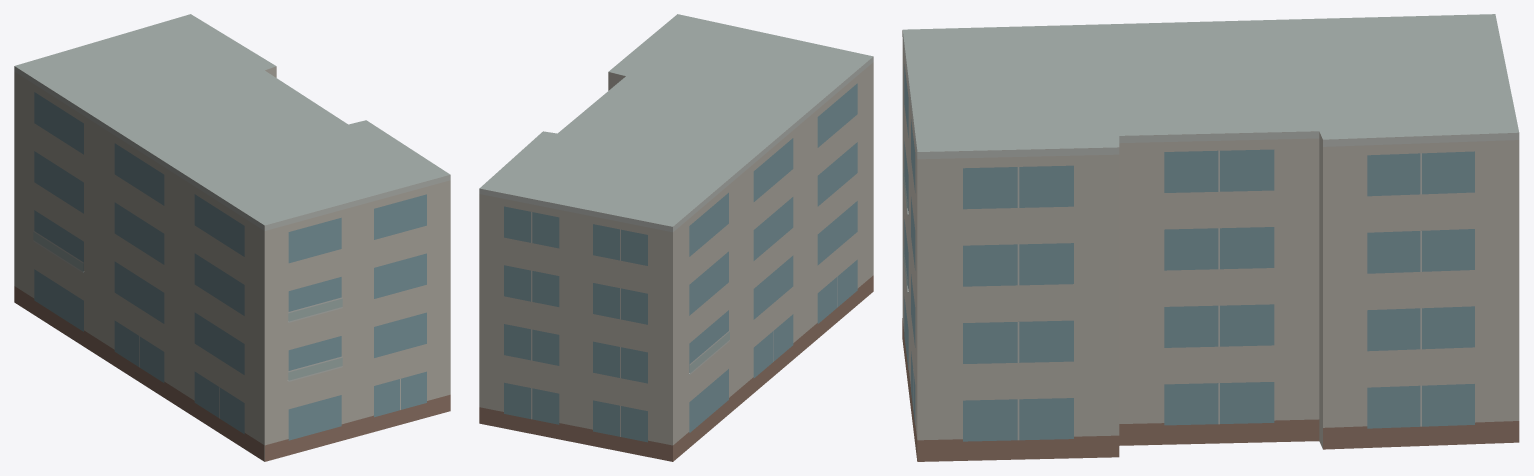
The model's file is survey-upis-32673288.glb.
3 renders of one model, left to right at view 1: azimuth 30°, elevation 25°; view 2: azimuth 150°, elevation 25°; view 3: azimuth 270°, elevation 25°, orthographic. The views are drawn at different scales.
Visible parts, largest first — view 1: survey-upis-32673288.tmp; view 2: survey-upis-32673288.tmp; view 3: survey-upis-32673288.tmp.
Boxes of the visible parts, x1,y1,x2,y2 form: survey-upis-32673288.tmp: (14, 14, 450, 461); survey-upis-32673288.tmp: (479, 14, 873, 461); survey-upis-32673288.tmp: (902, 14, 1519, 461).
Bounding box in the file's own units: 9.94 × 10.39 × 18.76.
